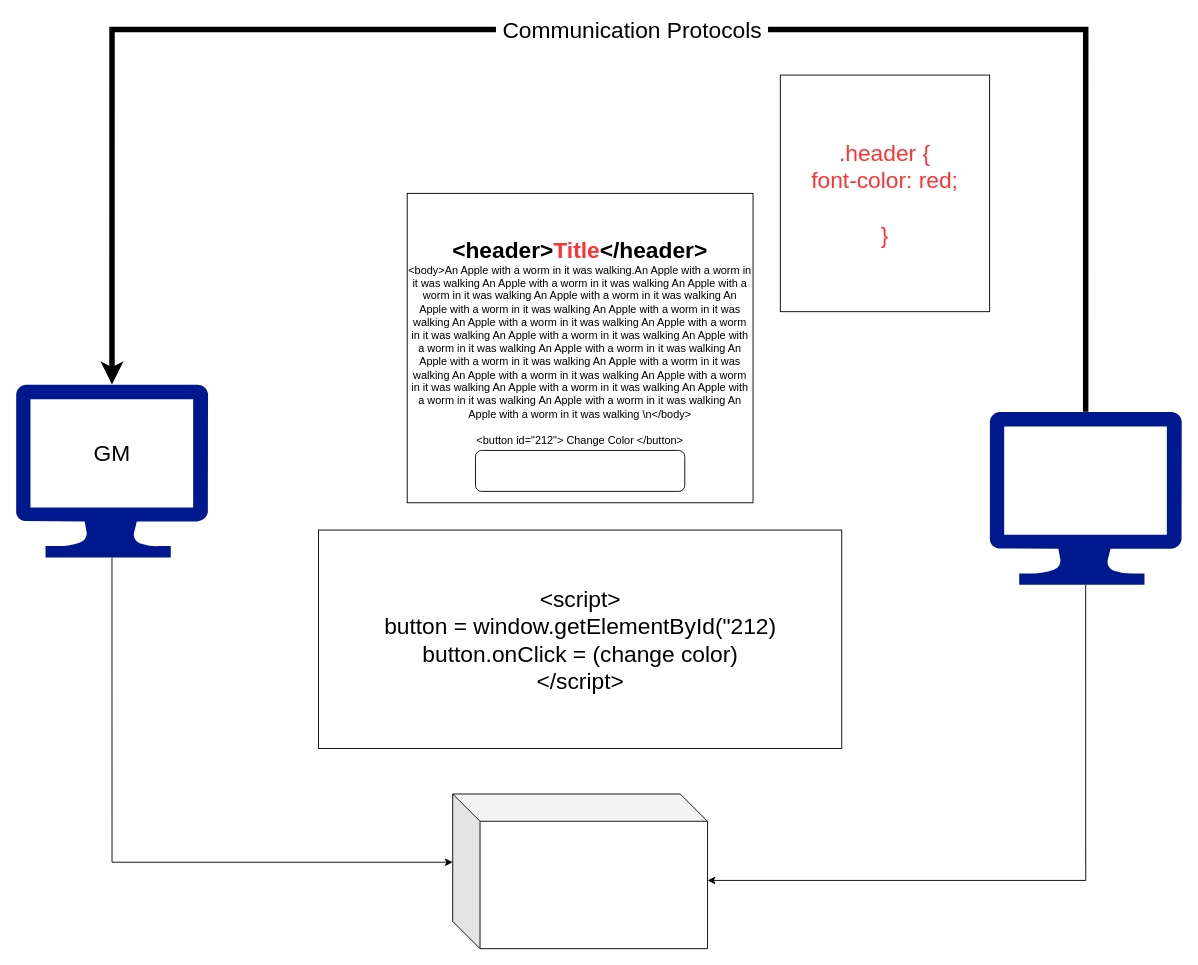
This 1198x965 diagram has some shape labels left out. Here are the shapes that lost their labels. From the top down, the centre of each, then its label:
At (x=580, y=470): "Change Color".
At (x=580, y=871): "Browser".
